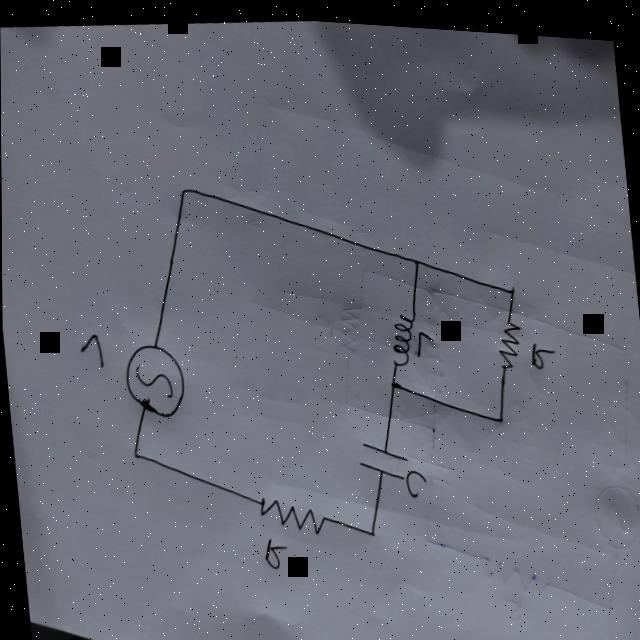capacitor: (354, 432, 410, 479)
inductor: (386, 306, 420, 364)
junction: (491, 403, 507, 422), (504, 275, 519, 293), (363, 521, 379, 537), (387, 372, 401, 390), (129, 446, 142, 461), (410, 248, 421, 264), (177, 183, 189, 195)
resistor: (256, 486, 326, 537), (493, 309, 524, 371)
source: (118, 336, 188, 422)
text: (76, 330, 104, 370), (261, 531, 288, 568), (403, 462, 428, 497), (527, 334, 554, 365), (412, 323, 435, 356)
